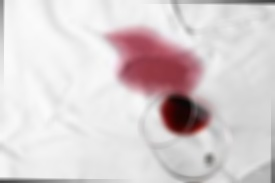wine: (106, 32, 203, 95)
